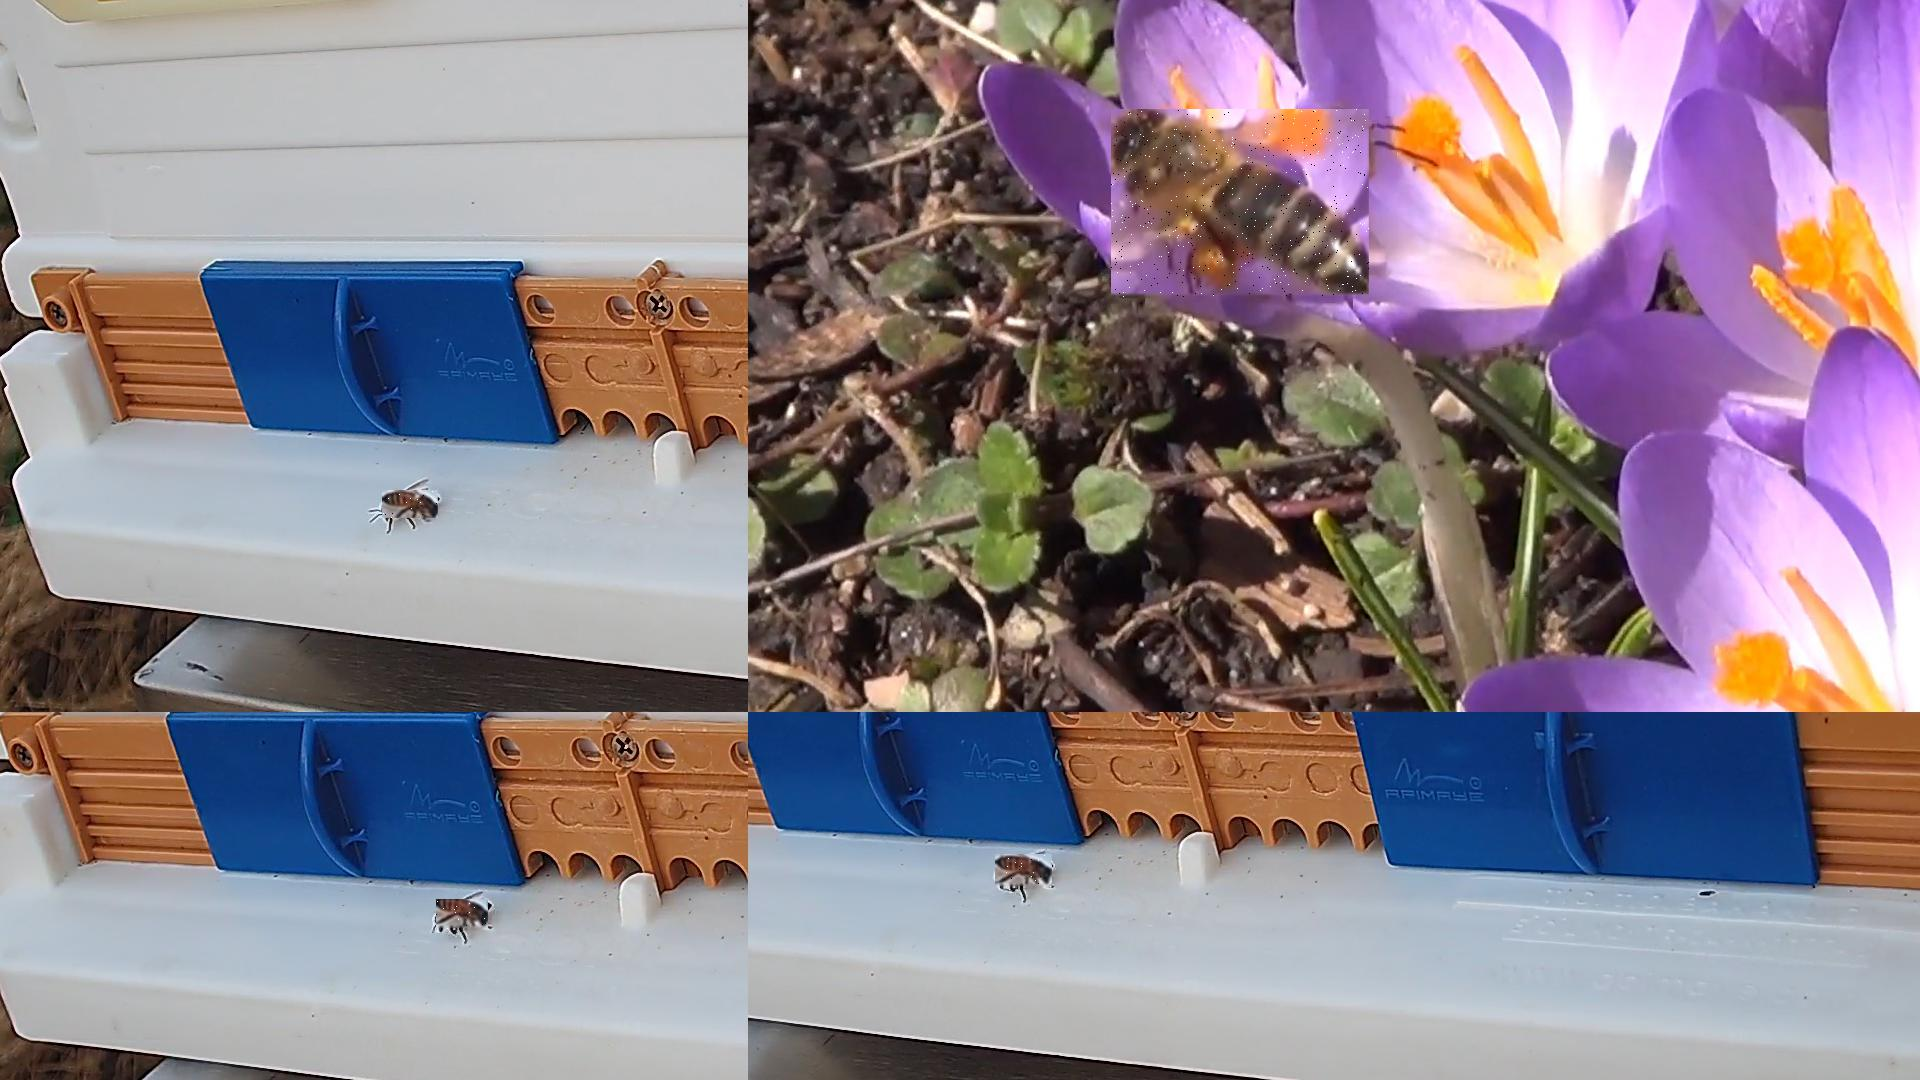bee: (996, 855, 1054, 889), (436, 899, 489, 931), (382, 491, 439, 520)
pollenbee: (1112, 109, 1370, 299)
